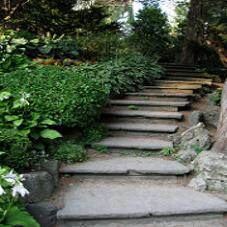Stair Up: (58, 64, 227, 227)
